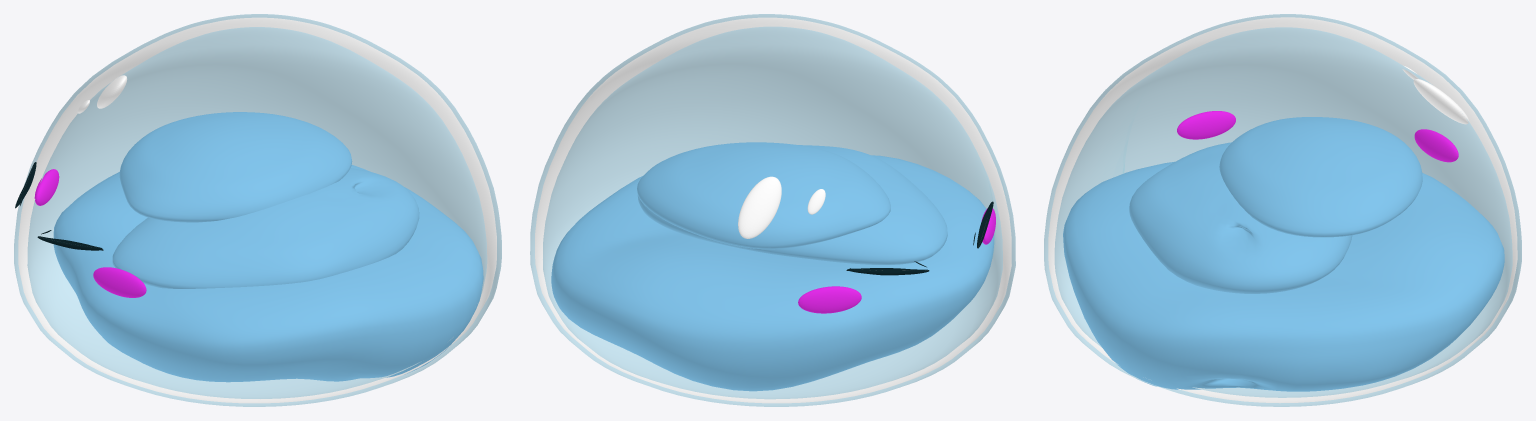
3 renders of one model, left to right at view 1: azimuth 30°, elevation 25°; view 2: azimuth 150°, elevation 25°; view 3: azimuth 270°, elevation 25°, orthographic.
Visible parts, largest first — view 1: Sphere.003_5, Sphere_1, Sphere.002_4, Sphere.001_2, Sphere.004_6; view 2: Sphere.003_5, Sphere_1, Sphere.004_6, Sphere.002_4, Sphere.001_2; view 3: Sphere.003_5, Sphere_1, Sphere.002_4, Sphere.004_6.
Boxes of the visible parts, x1,y1,x2,y2 form: Sphere.003_5: (53, 112, 483, 382); Sphere_1: (14, 14, 501, 406); Sphere.002_4: (34, 169, 146, 297); Sphere.001_2: (15, 162, 103, 250); Sphere.004_6: (77, 75, 127, 113); Sphere.003_5: (551, 142, 994, 391); Sphere_1: (530, 14, 1015, 406); Sphere.004_6: (738, 176, 825, 238); Sphere.002_4: (798, 208, 995, 313); Sphere.001_2: (846, 201, 993, 275); Sphere.003_5: (1063, 117, 1504, 391); Sphere_1: (1044, 14, 1521, 406); Sphere.002_4: (1177, 111, 1458, 162); Sphere.004_6: (1402, 65, 1468, 124).
Size of the model in its own units: 1.81 by 1.32 by 1.78.
5 materials, 1 textured.
